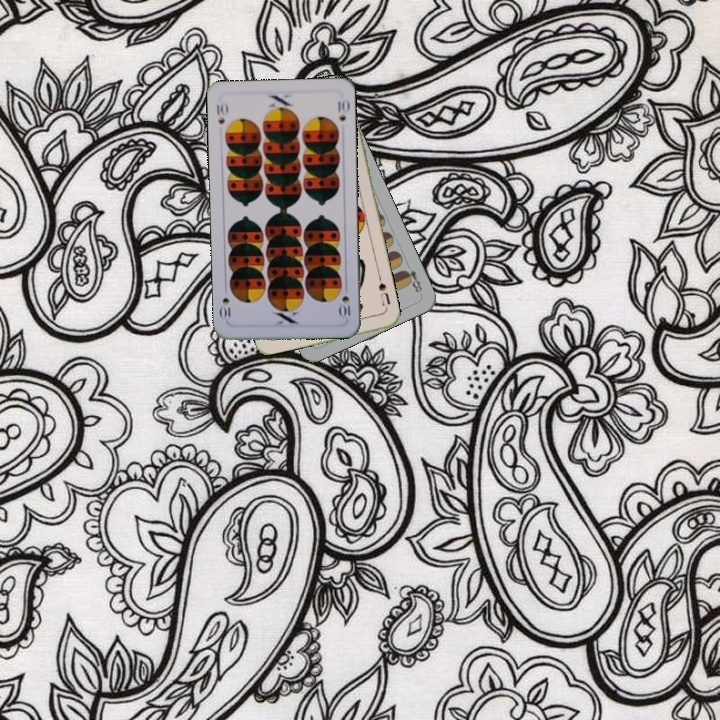E8: (399, 258, 425, 295)
S10: (336, 281, 353, 320), (212, 100, 230, 127)
SU: (374, 279, 393, 308)
